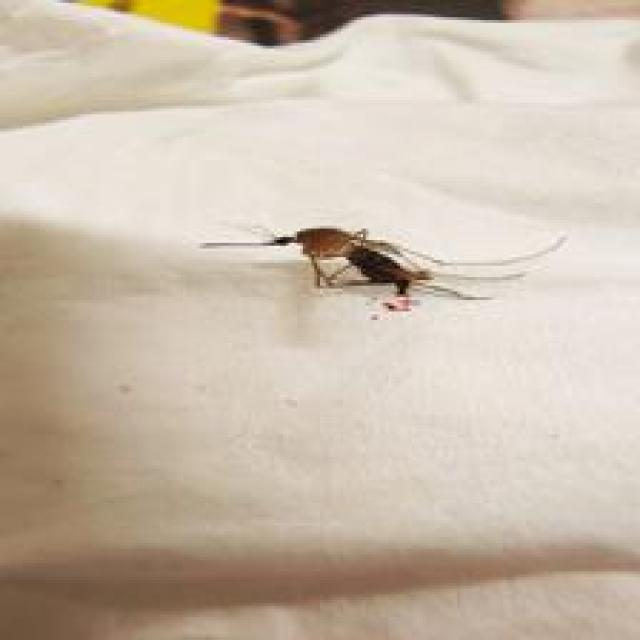Culex: (199, 224, 567, 310)
